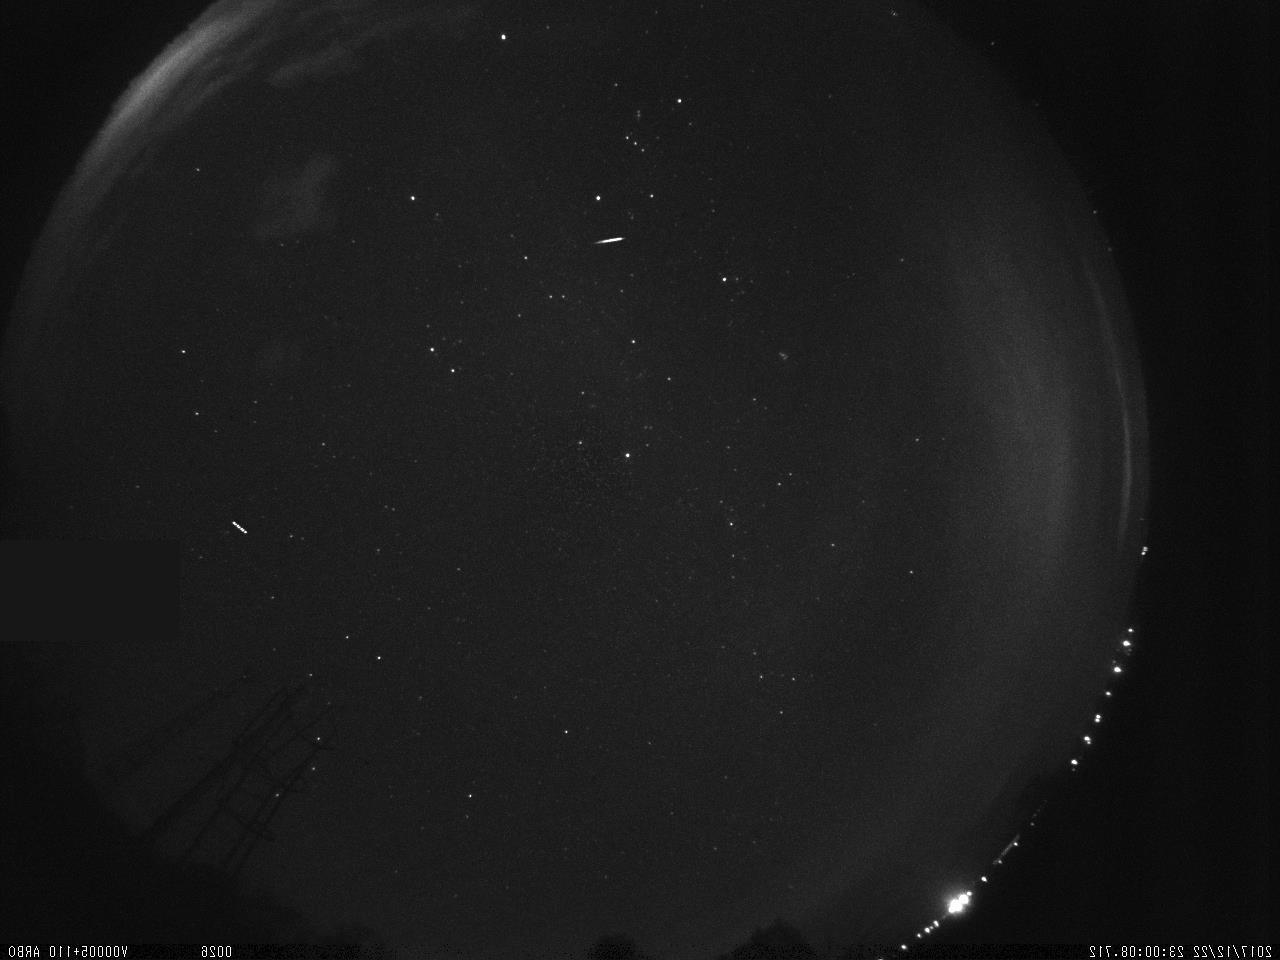meteor: (590, 224, 631, 250)
satelite: (227, 515, 256, 541)
